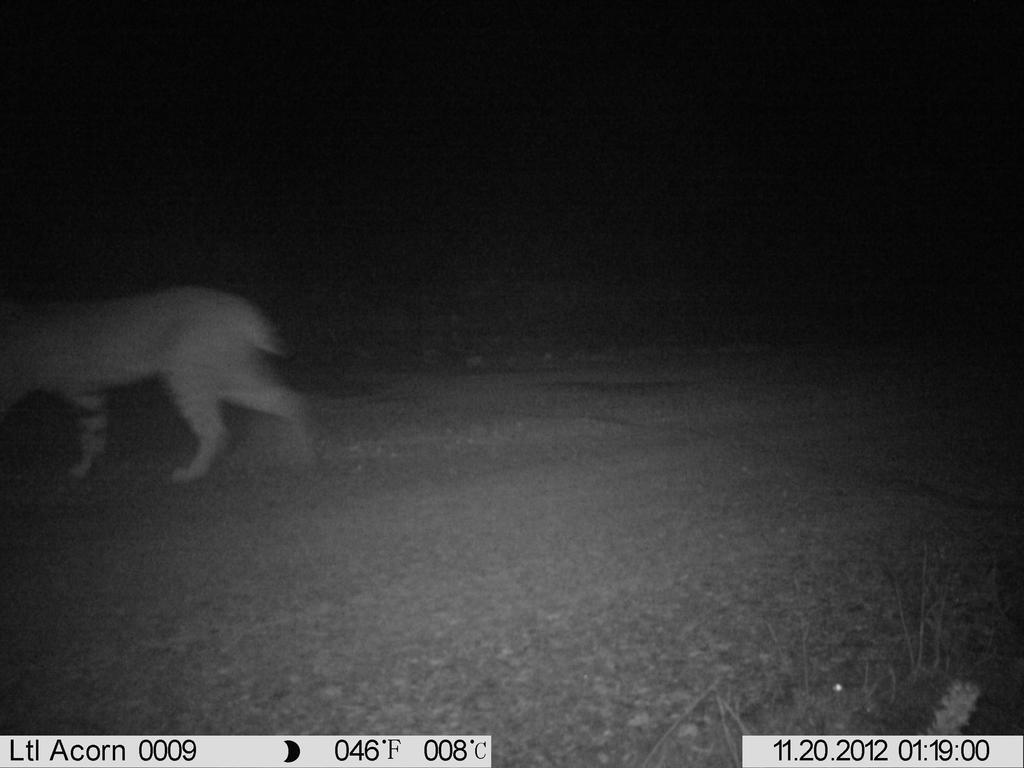bobcat: (8, 279, 331, 493)
